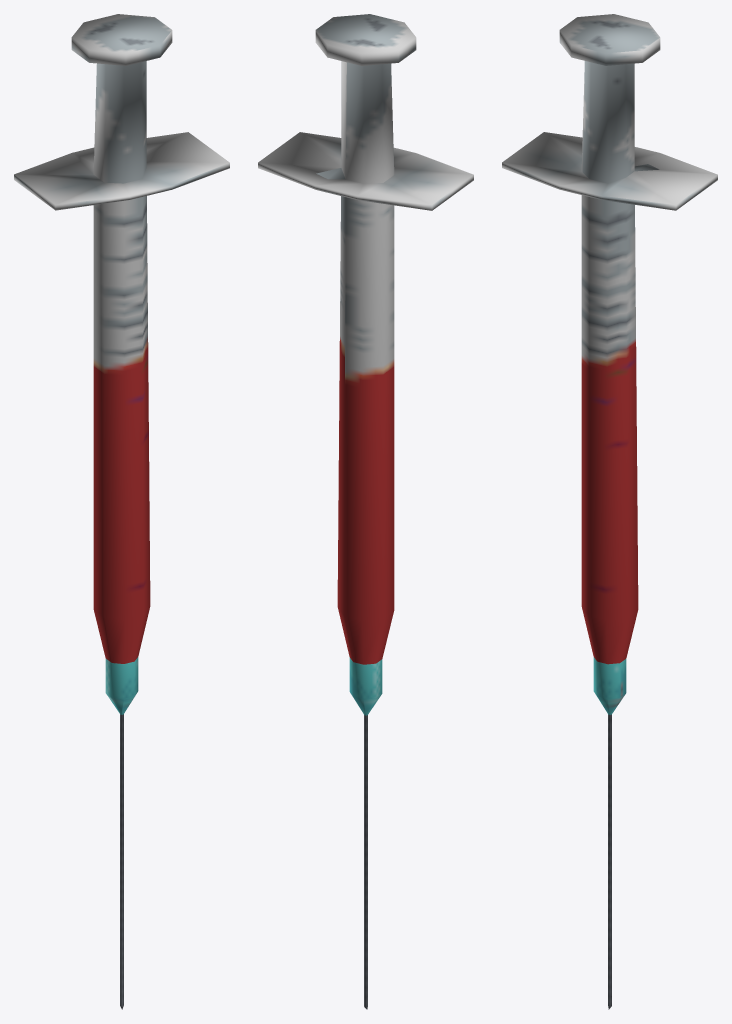
The model's file is Syringe.fbx.
The picture shows the model from 3 angles, left to right: view 1: azimuth 30°, elevation 25°; view 2: azimuth 150°, elevation 25°; view 3: azimuth 330°, elevation 25°; orthographic projection.
Visible parts, largest first — view 1: Syringe; view 2: Syringe; view 3: Syringe.
Boxes of the visible parts, left/top/right/bottom form: Syringe: left=14, top=14, right=229, bottom=1009; Syringe: left=258, top=14, right=473, bottom=1009; Syringe: left=502, top=14, right=717, bottom=1009.
Bounding box in the file's own units: 0.036 × 0.1928 × 0.021.
